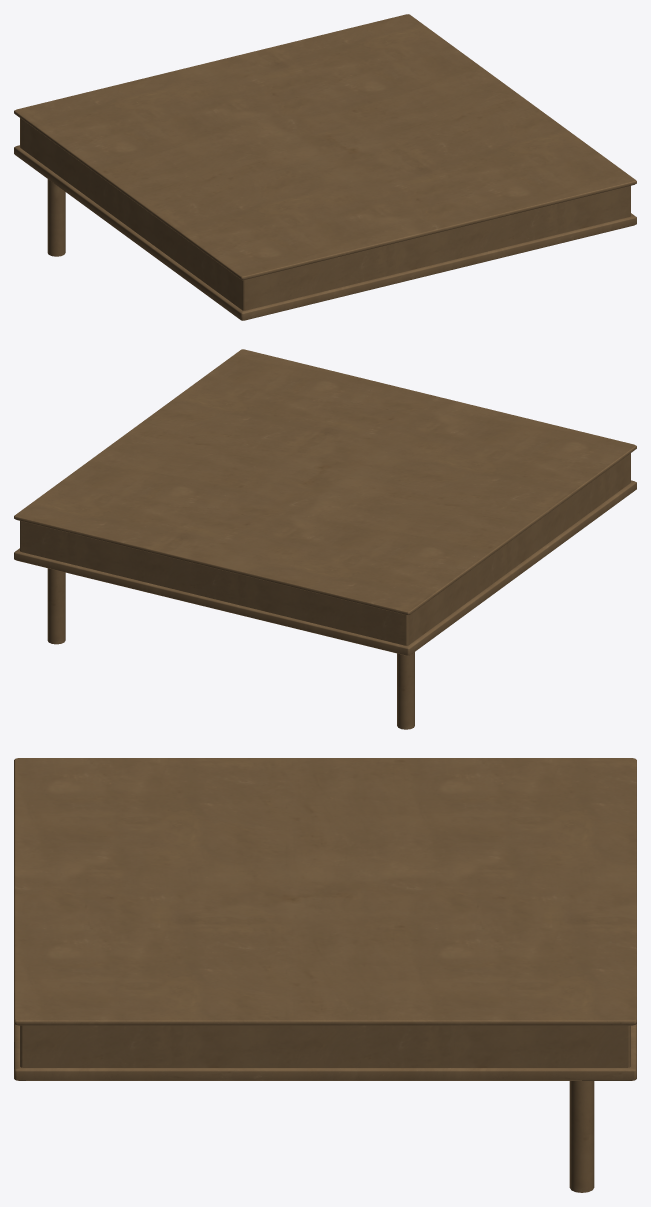
Rendered from SM_Building01RoofCanopyR.fbx.
The picture shows the model from 3 angles, top to bottom: view 1: azimuth 30°, elevation 25°; view 2: azimuth 150°, elevation 25°; view 3: azimuth 270°, elevation 25°; orthographic projection. The views are drawn at different scales.
Visible parts, largest first — view 1: SM_Building01RoofCanopyR_LOD0; view 2: SM_Building01RoofCanopyR_LOD0; view 3: SM_Building01RoofCanopyR_LOD0.
Part boxes in pixels (<box>): SM_Building01RoofCanopyR_LOD0: <box>14,14,636,320</box>; SM_Building01RoofCanopyR_LOD0: <box>14,349,636,729</box>; SM_Building01RoofCanopyR_LOD0: <box>14,758,636,1192</box>.
Bounding box in the file's own units: 510 × 510 × 165.
Materials: 2 (2 with a texture image).
